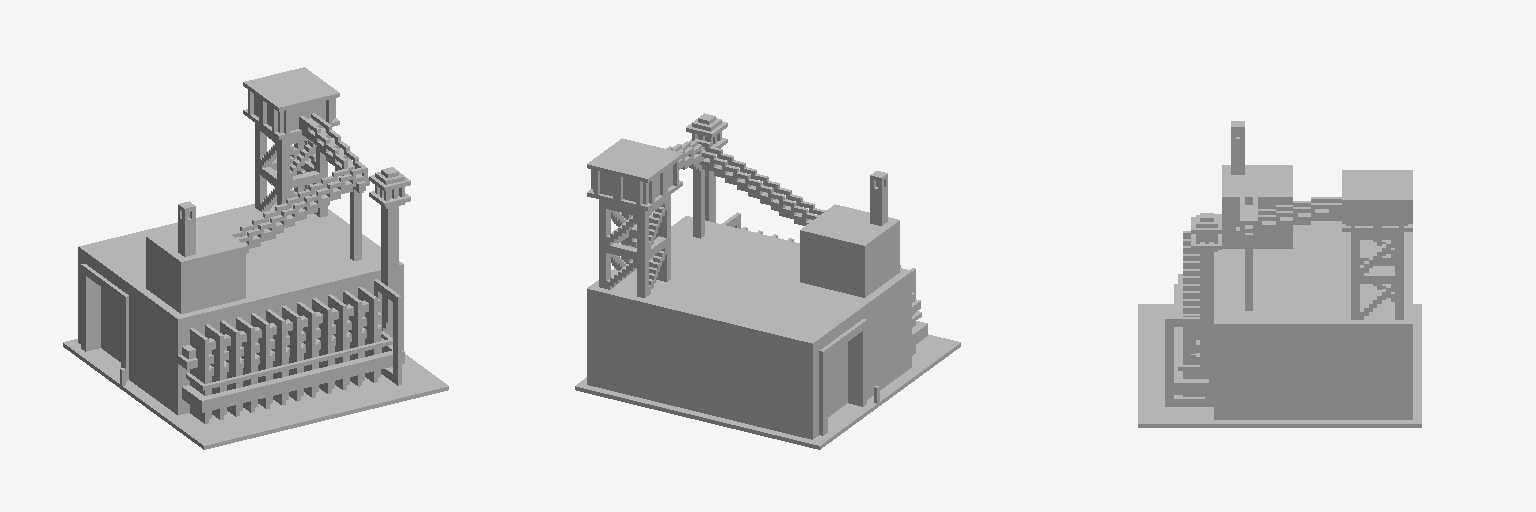
File: recycle plant.obj
The picture shows the model from 3 angles: view 1: azimuth 30°, elevation 25°; view 2: azimuth 150°, elevation 25°; view 3: azimuth 270°, elevation 25°; orthographic projection.
Visible parts, largest first — view 1: object 1; view 2: object 1; view 3: object 1.
Part boxes in pixels (x1,y1,x2,y2): object 1: (63, 67, 448, 449); object 1: (575, 113, 960, 449); object 1: (1138, 121, 1421, 427).
Bounding box in the file's own units: 6.4 × 5.6 × 6.4.